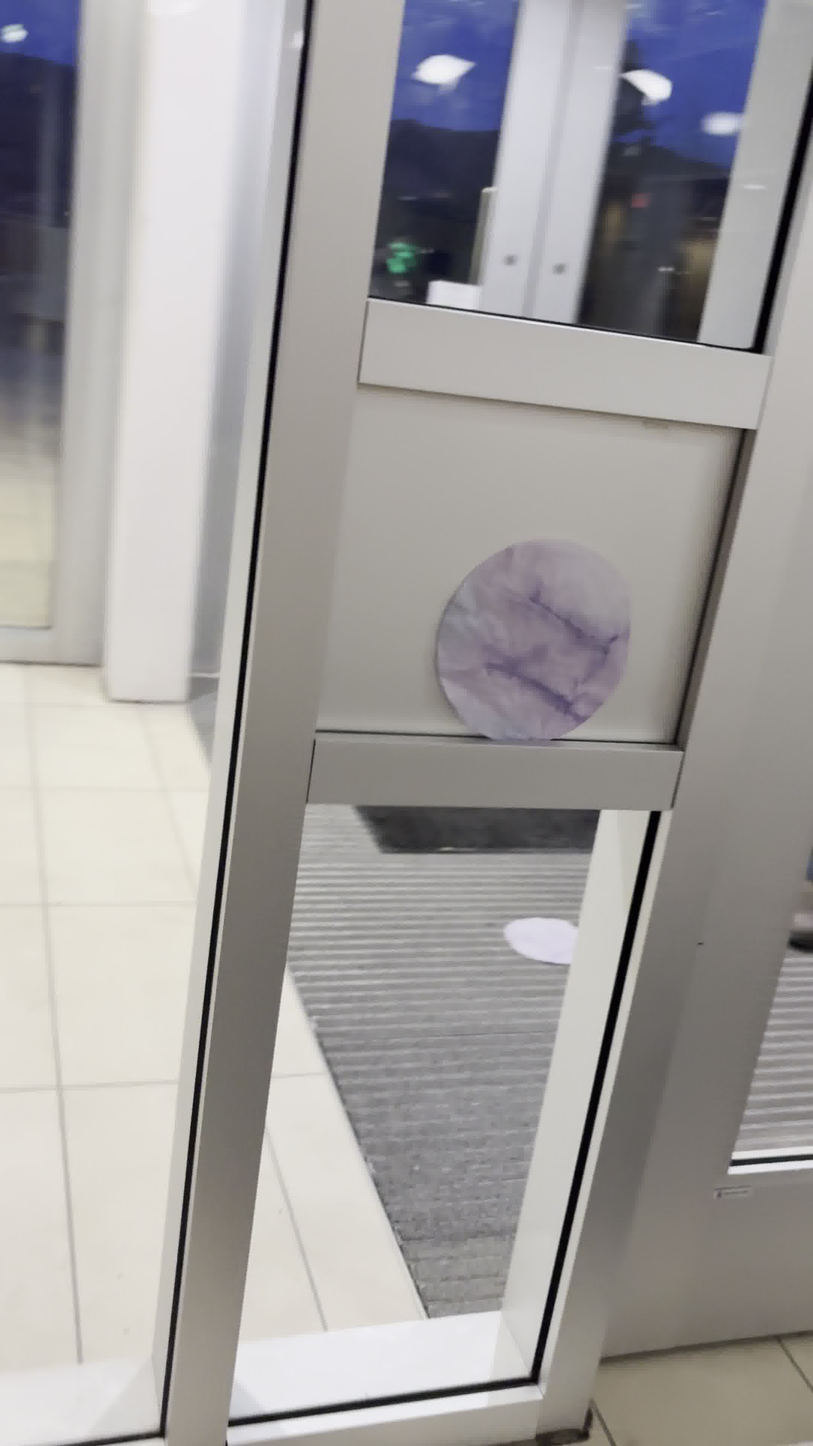Target: (433, 536, 633, 746)
